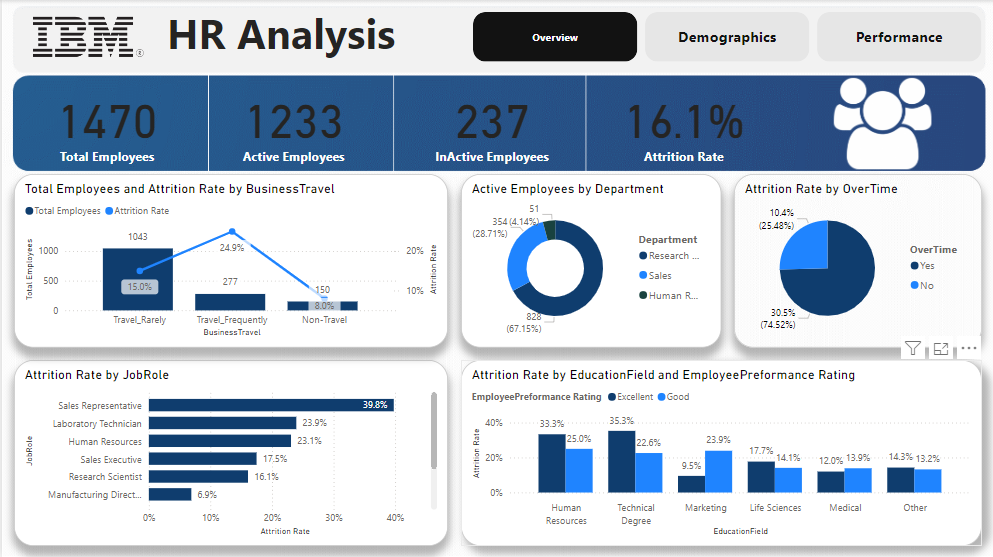

Layout of this report page (visuals, bound fields, positions):
{"tool":"powerbi","page":{"name":"Overview","canvas":[1280,720],"ordinal":0},"visuals":[{"type":"card","fields":{"Values":["Measurments.Total Employees"]},"box":[16,96,240,128],"z":0},{"type":"card","fields":{"Values":["Measurments.Active Employees"]},"box":[272,96,208,128],"z":1},{"type":"card","fields":{"Values":["Measurments.InActive Employees"]},"box":[512,96,240,128],"z":2},{"type":"card","fields":{"Values":["Measurments.% Attrition Rate"]},"box":[768,96,224,128],"z":3},{"type":"donutChart","fields":{"Category":["WA_Fn-UseC_-HR-Employee-Attrition.Department"],"Y":["Measurments.Active Employees"]},"box":[592,224,336,224],"z":4},{"type":"barChart","fields":{"Category":["WA_Fn-UseC_-HR-Employee-Attrition.JobRole"],"Y":["Measurments.Attrition Rate"]},"box":[16,464,560,240],"z":5},{"type":"lineClusteredColumnComboChart","fields":{"Y":["Measurments.Total Employees"],"Category":["WA_Fn-UseC_-HR-Employee-Attrition.BusinessTravel"],"Y2":["Measurments.% Attrition Rate"]},"box":[16,224,560,224],"z":6},{"type":"pieChart","fields":{"Category":["WA_Fn-UseC_-HR-Employee-Attrition.OverTime"],"Y":["Measurments.Attrition Rate"]},"box":[944,224,320,224],"z":7},{"type":"clusteredColumnChart","fields":{"Category":["WA_Fn-UseC_-HR-Employee-Attrition.EducationField"],"Y":["Measurments.Attrition Rate"],"Series":["WA_Fn-UseC_-HR-Employee-Attrition.EmployeePreformance Rating"]},"box":[592,464,672,240],"z":8},{"type":"textbox","box":[208,0,320,96],"z":9},{"type":"image","box":[16,16,192,64],"z":10},{"type":"image","box":[992,96,288,128],"z":11},{"type":"pageNavigator","box":[608,16,656,64],"z":12}]}

Visuals, with their boxes in screenshot pixels (x1, y1, x2, y2), scaled from the page's 1280x720 canvas onto the 993x557 screenshot:
card - Measurments.Total Employees: 12 74 199 173
card - Measurments.Active Employees: 211 74 372 173
card - Measurments.InActive Employees: 397 74 583 173
card - Measurments.% Attrition Rate: 596 74 770 173
donutChart - WA_Fn-UseC_-HR-Employee-Attrition.Department x Measurments.Active Employees: 459 173 720 347
barChart - WA_Fn-UseC_-HR-Employee-Attrition.JobRole x Measurments.Attrition Rate: 12 359 447 545
lineClusteredColumnComboChart - Measurments.Total Employees x WA_Fn-UseC_-HR-Employee-Attrition.BusinessTravel: 12 173 447 347
pieChart - WA_Fn-UseC_-HR-Employee-Attrition.OverTime x Measurments.Attrition Rate: 732 173 981 347
clusteredColumnChart - WA_Fn-UseC_-HR-Employee-Attrition.EducationField x Measurments.Attrition Rate: 459 359 981 545
textbox: 161 0 410 74
image: 12 12 161 62
image: 770 74 992 173
pageNavigator: 472 12 981 62
